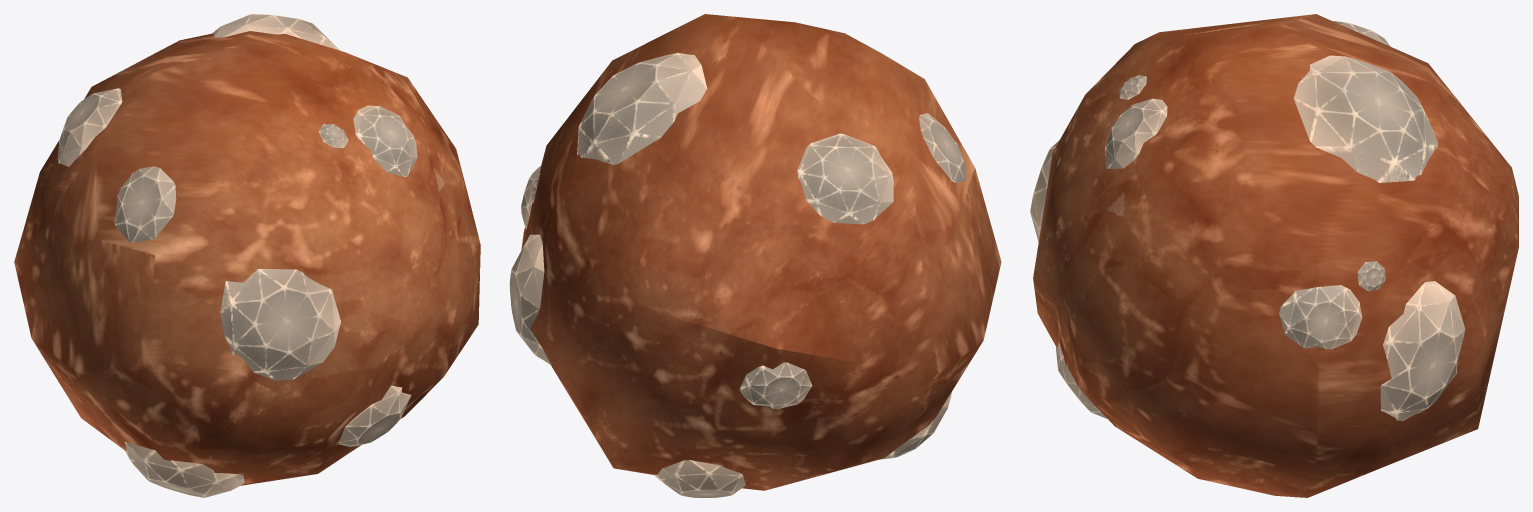
The model's file is crystal_sphere_white.fbx.
3 renders of one model, left to right at view 1: azimuth 30°, elevation 25°; view 2: azimuth 150°, elevation 25°; view 3: azimuth 270°, elevation 25°, orthographic. The views are drawn at different scales.
Parts seen in each view (by area): view 1: crystal_sphere_body_low, crystal_sphere_jewel_low; view 2: crystal_sphere_body_low, crystal_sphere_jewel_low; view 3: crystal_sphere_body_low, crystal_sphere_jewel_low.
Part boxes in pixels (left/top/right/bottom): crystal_sphere_body_low: left=14, top=31, right=480, bottom=485; crystal_sphere_jewel_low: left=57, top=14, right=417, bottom=497; crystal_sphere_body_low: left=521, top=14, right=1001, bottom=490; crystal_sphere_jewel_low: left=509, top=52, right=966, bottom=497; crystal_sphere_body_low: left=1033, top=14, right=1518, bottom=497; crystal_sphere_jewel_low: left=1030, top=21, right=1465, bottom=420.
Bounding box in the file's own units: 1.94 × 1.95 × 1.92.
